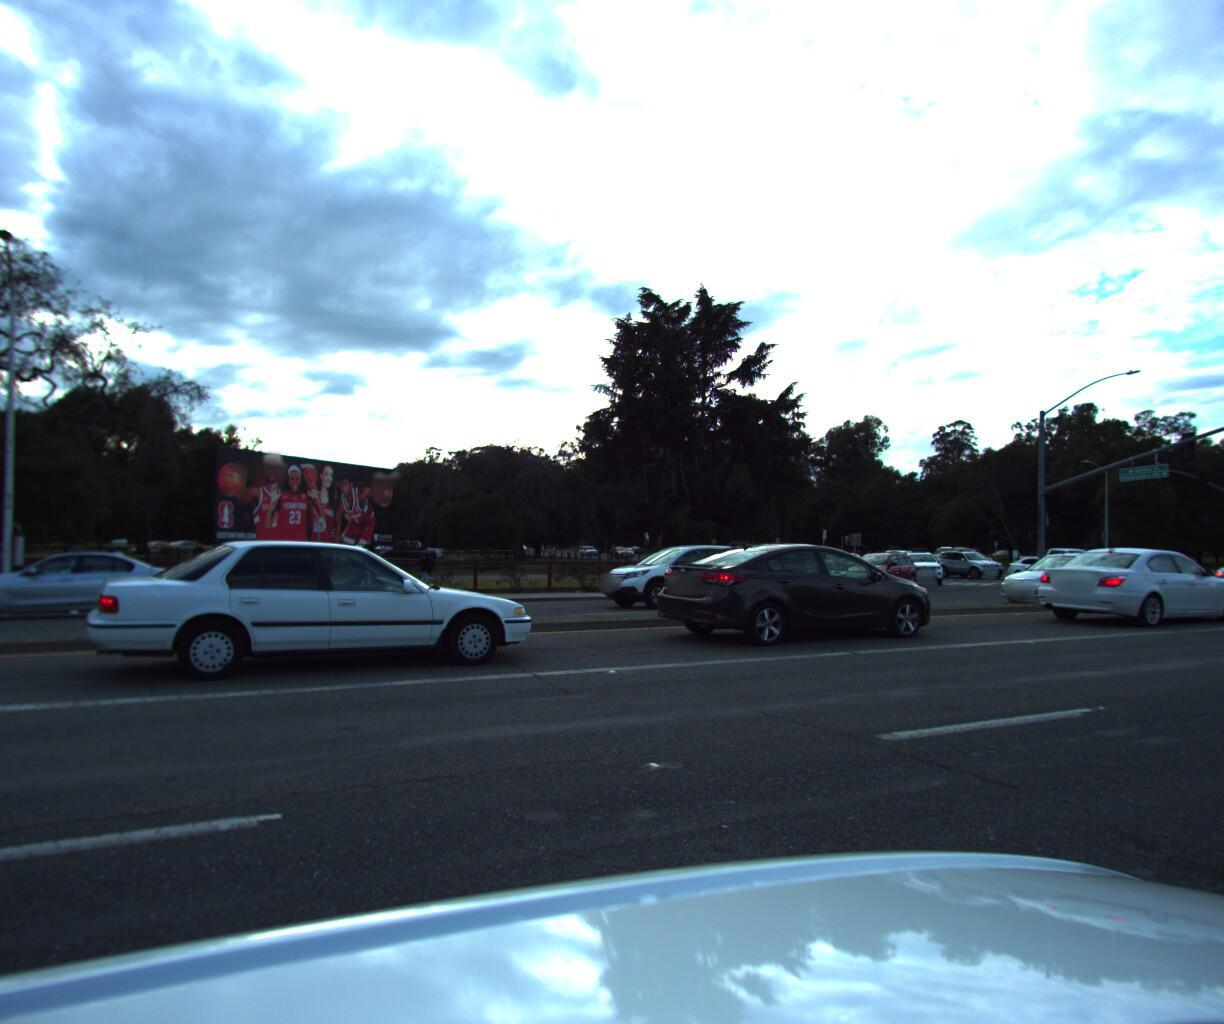car: (53, 526, 537, 694), (644, 538, 948, 647), (1023, 542, 1224, 626), (0, 547, 177, 627), (587, 538, 773, 610), (988, 546, 1146, 605), (828, 550, 922, 596), (1009, 541, 1116, 577), (997, 550, 1093, 579), (927, 547, 1005, 575), (891, 546, 948, 582), (1200, 543, 1224, 610), (818, 547, 873, 571)
